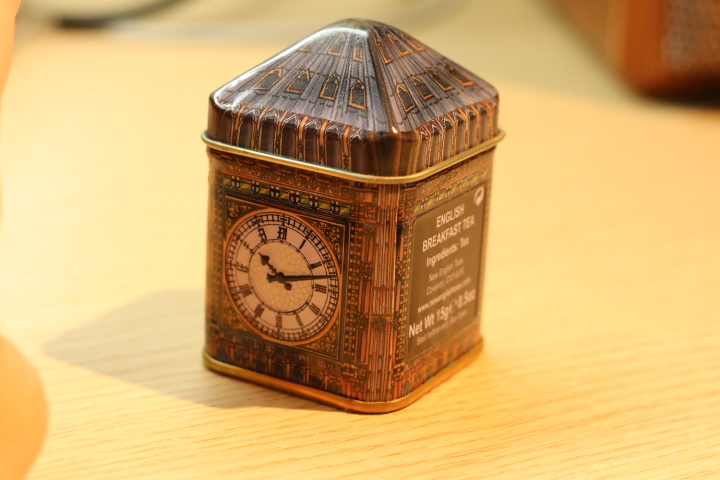Big Ben: (194, 16, 526, 428)
